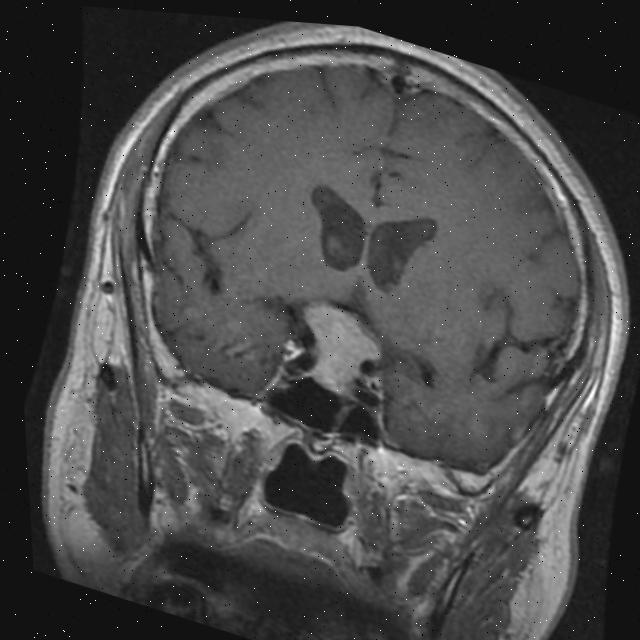Pituitary: (287, 296, 389, 405)
